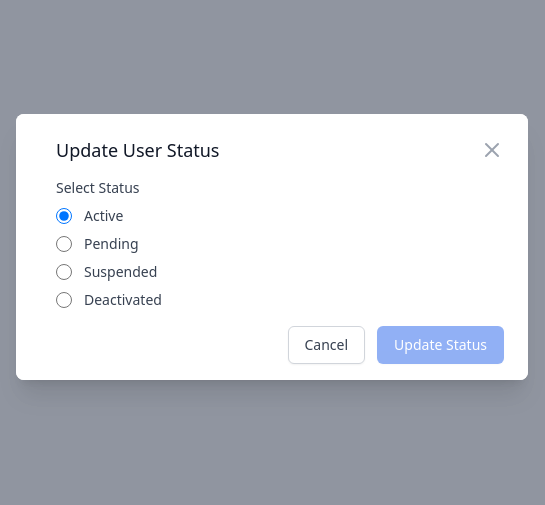
UserStatusDialog › handles errors during update
Click the radio button labelled "Suspended" at (64, 272), box [56,264,72,280]
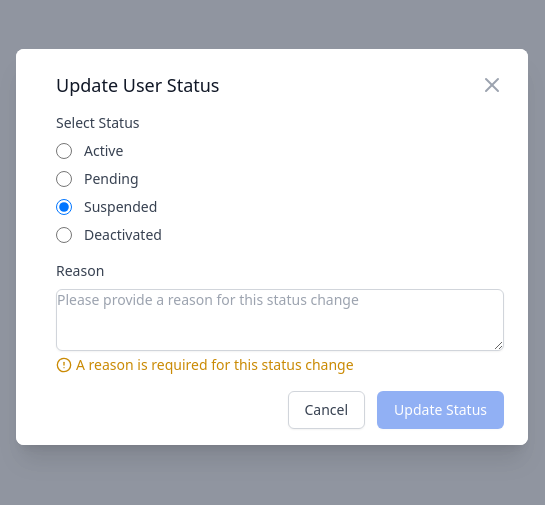
Type "Testing suspension" into the text box labelled "Reason" at (280, 320), box [56,289,504,351]
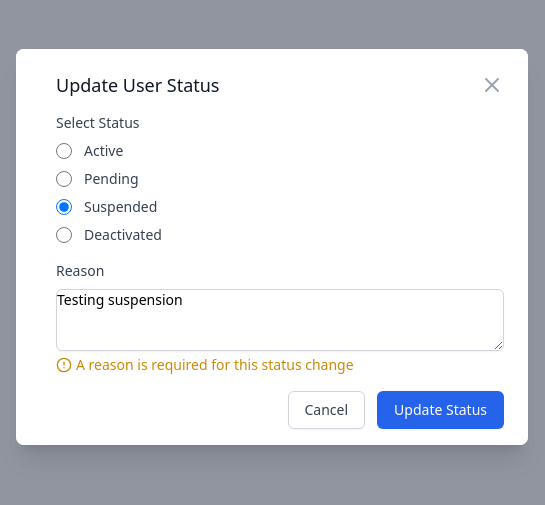
Click the button "Update Status" at (441, 410), box [377,391,504,429]
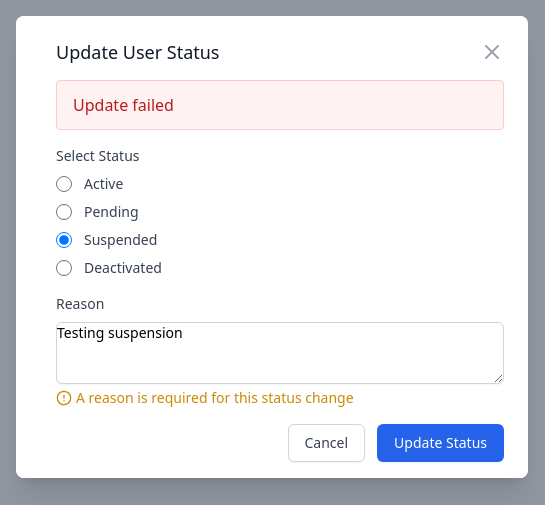
Expected: the text "Update failed" is shown, [56,80,504,130]
